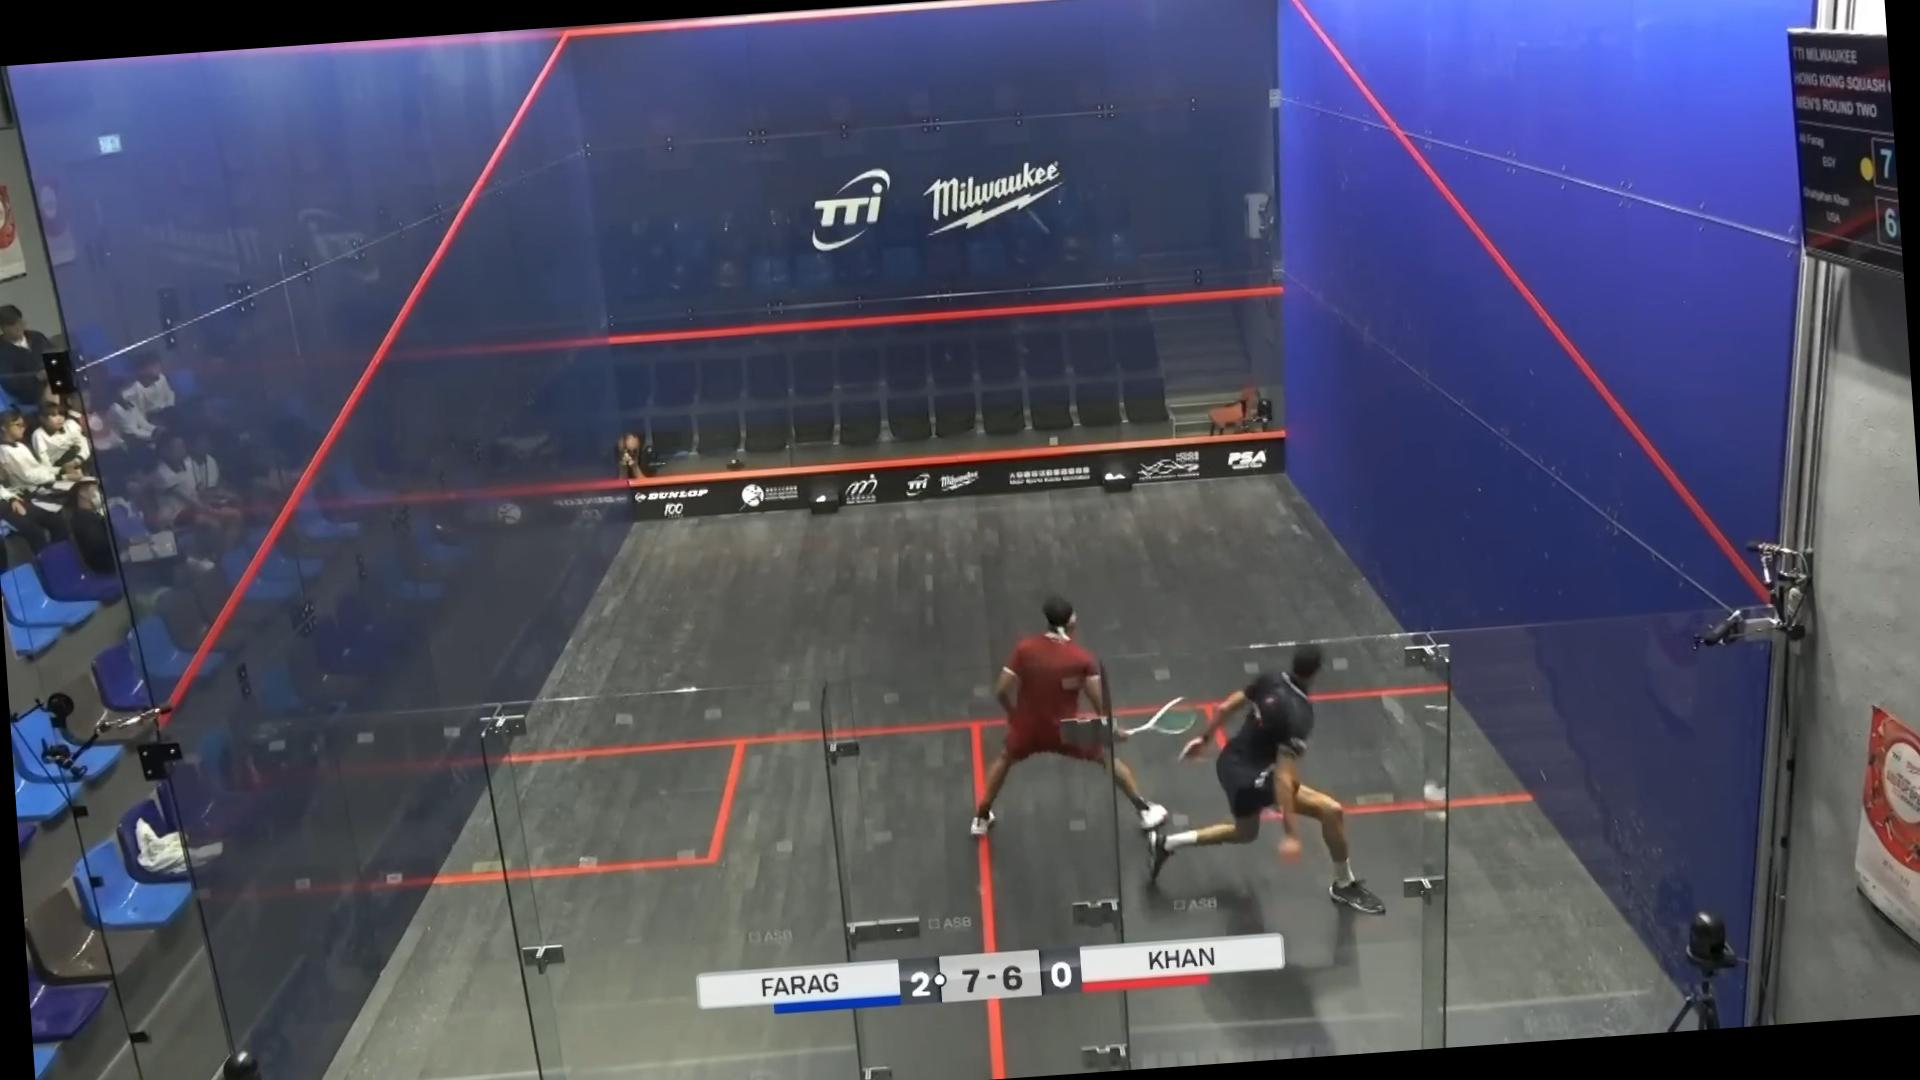Racket: (1113, 684, 1200, 740)
